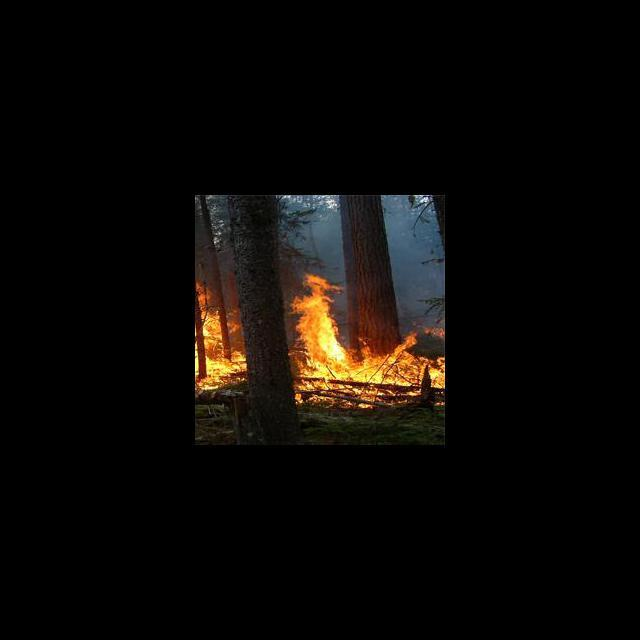Fire: (286, 273, 444, 410), (195, 282, 251, 393)
